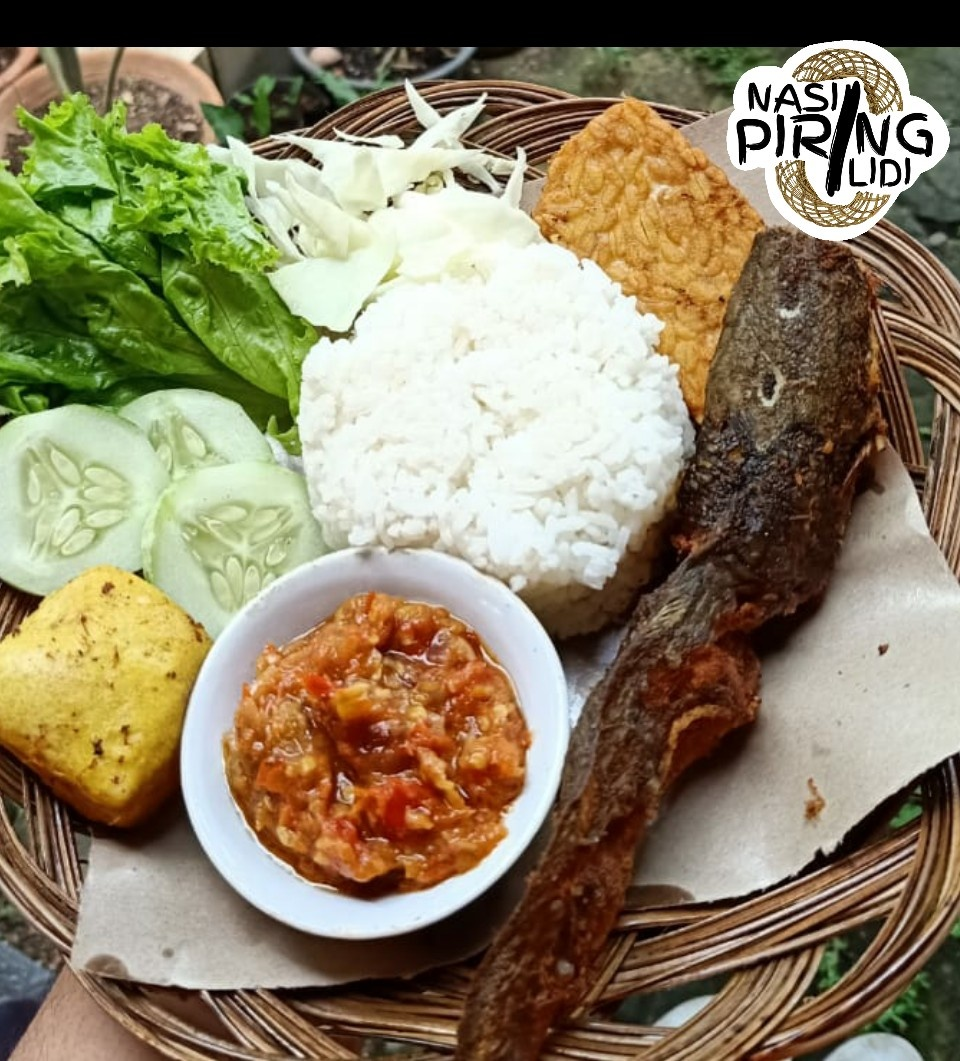pecel_lele: (646, 228, 883, 806)
